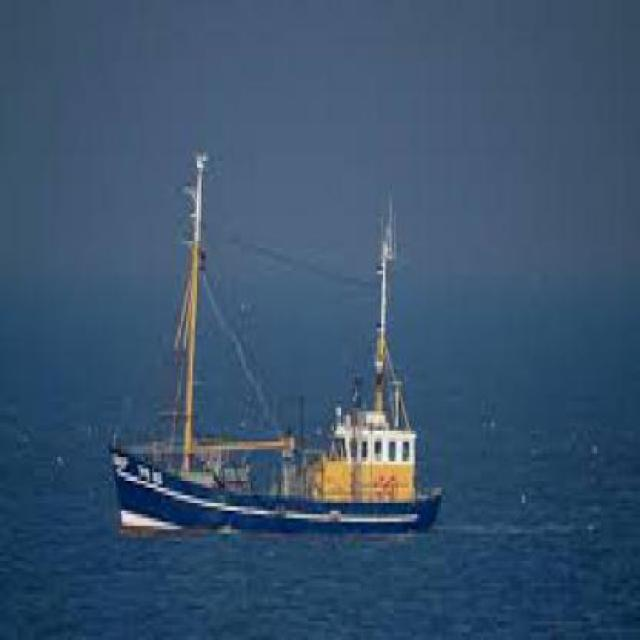fish-b: (93, 134, 453, 550)
